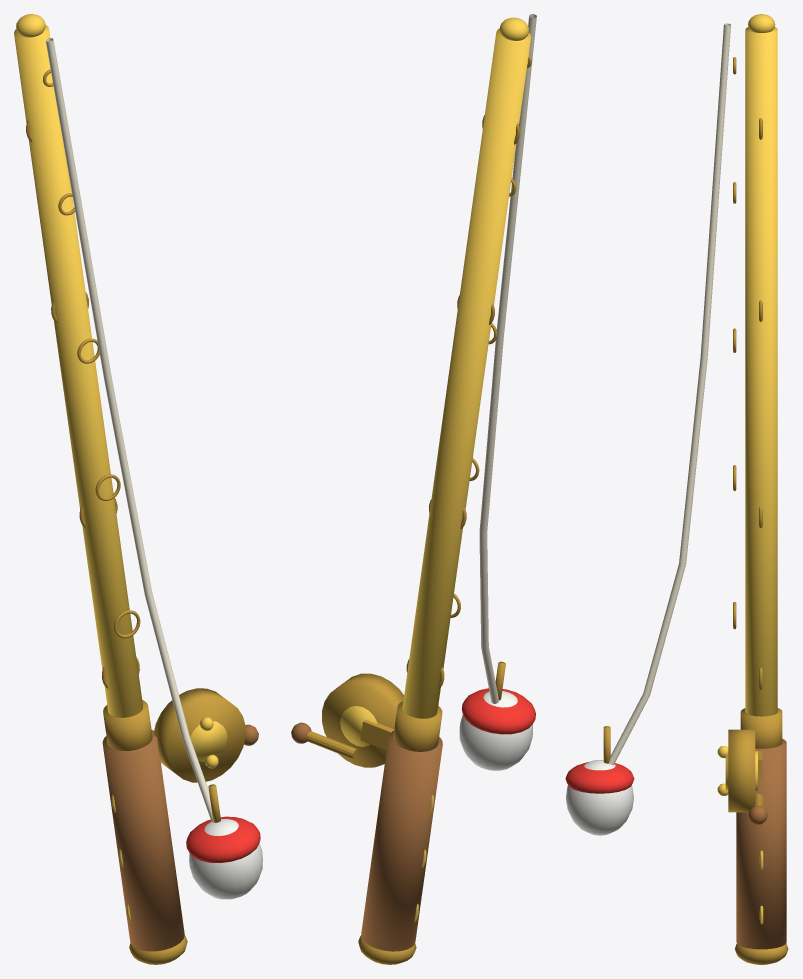
File: goldenrod.fbx
The picture shows the model from 3 angles, left to right: view 1: azimuth 30°, elevation 25°; view 2: azimuth 150°, elevation 25°; view 3: azimuth 270°, elevation 25°; orthographic projection. The views are drawn at different scales.
Visible parts, largest first — view 1: Golden_Rod_One_Piece; view 2: Golden_Rod_One_Piece; view 3: Golden_Rod_One_Piece.
Part boxes in pixels (bbox=[...]): Golden_Rod_One_Piece: bbox=[14, 14, 262, 964]; Golden_Rod_One_Piece: bbox=[291, 14, 536, 964]; Golden_Rod_One_Piece: bbox=[565, 14, 788, 964].
Size of the model in its own units: 70.22 by 273 by 62.1.
